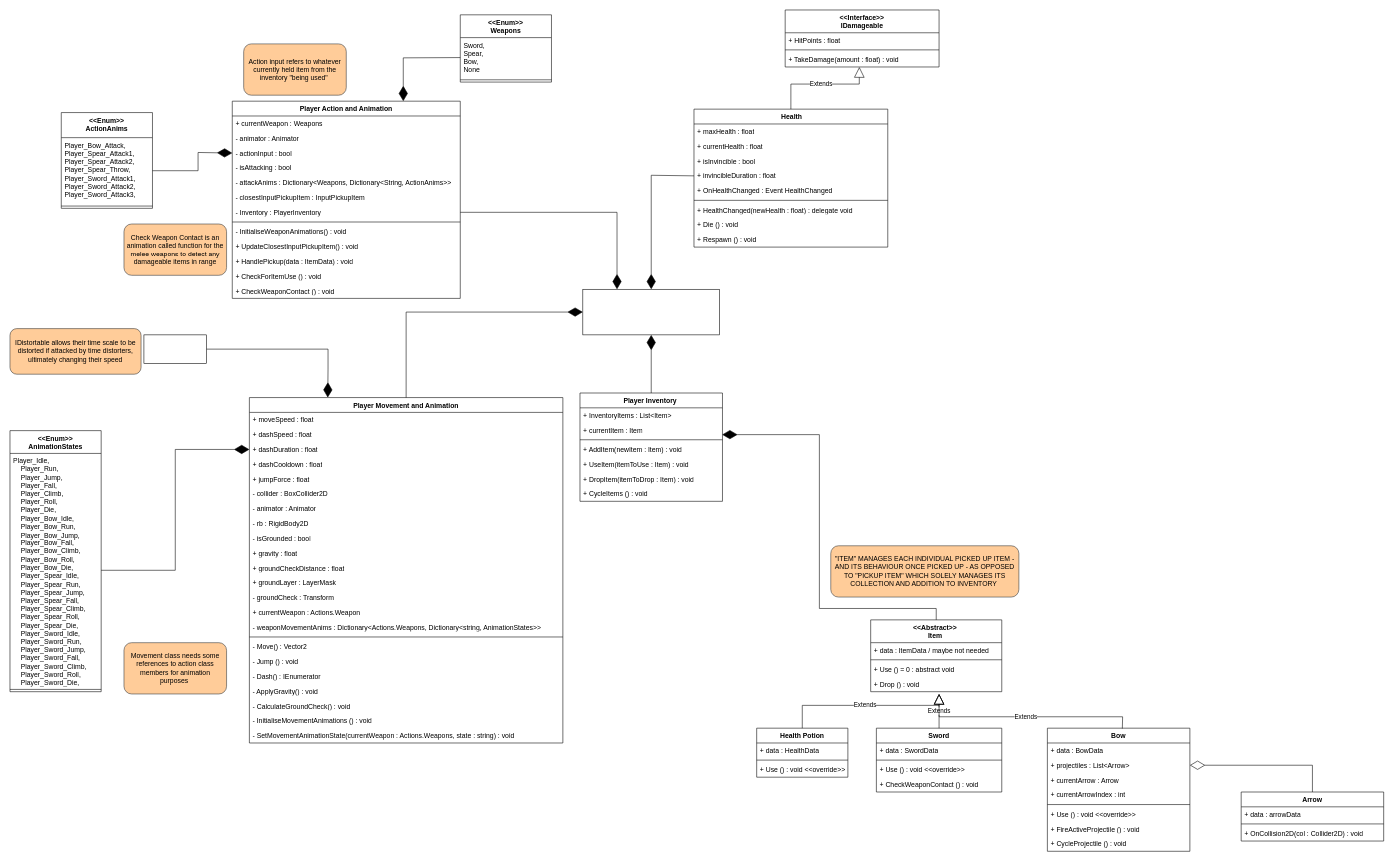
The diagram is 1394 pixels wide and 863 high, and some of its shapes have lost their labels. The shapes that lost their labels are listed below. From the top down, each one's centre as x and y in pixels, then its label:
the point at 651,312: PLAYER
the point at 175,348: «interface» IDistortable
